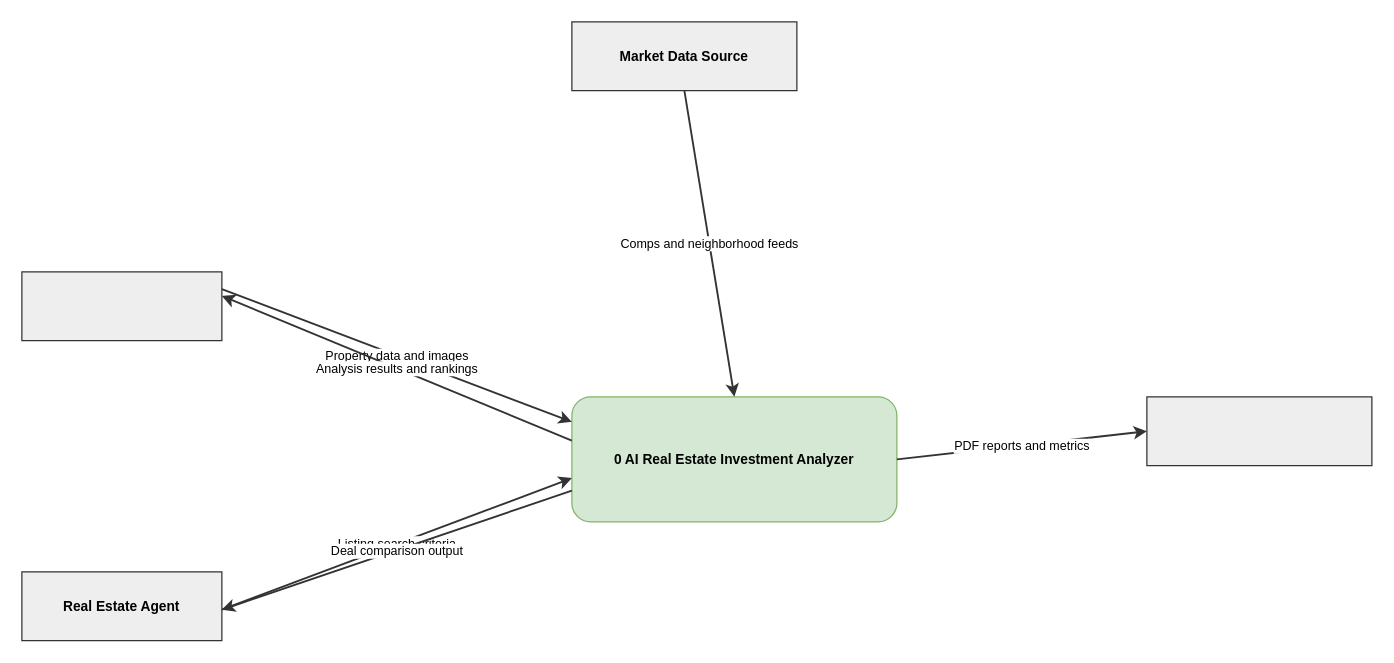
Image size: 1394x663. Some labels were removed from this diagram. The shapes that lost their labels are listed below. From the top down, each one's centre as x and y in pixels, then its label:
point (121, 306): Property Investor
point (1259, 431): Reports and Dashboard
